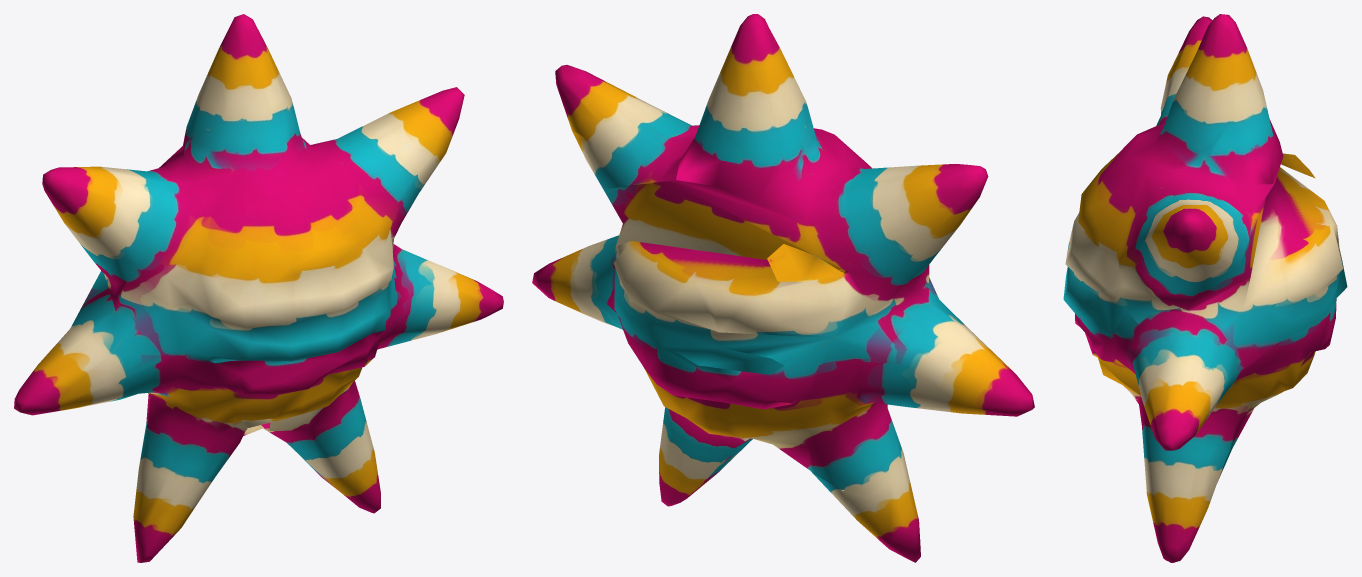
The model's file is pinata_tripo.glb.
The picture shows the model from 3 angles, left to right: view 1: azimuth 30°, elevation 25°; view 2: azimuth 150°, elevation 25°; view 3: azimuth 270°, elevation 25°; orthographic projection. The views are drawn at different scales.
Visible parts, largest first — view 1: tripo_node_11c1b5dc-5884-4348-bd5a-21af1effe4fc; view 2: tripo_node_11c1b5dc-5884-4348-bd5a-21af1effe4fc; view 3: tripo_node_11c1b5dc-5884-4348-bd5a-21af1effe4fc.
Part boxes in pixels (bbox=[...]): tripo_node_11c1b5dc-5884-4348-bd5a-21af1effe4fc: bbox=[14, 14, 503, 562]; tripo_node_11c1b5dc-5884-4348-bd5a-21af1effe4fc: bbox=[532, 14, 1034, 562]; tripo_node_11c1b5dc-5884-4348-bd5a-21af1effe4fc: bbox=[1063, 14, 1347, 562].
Bounding box in the file's own units: 0.9709 × 0.9792 × 0.505.
1 material, 1 textured.
